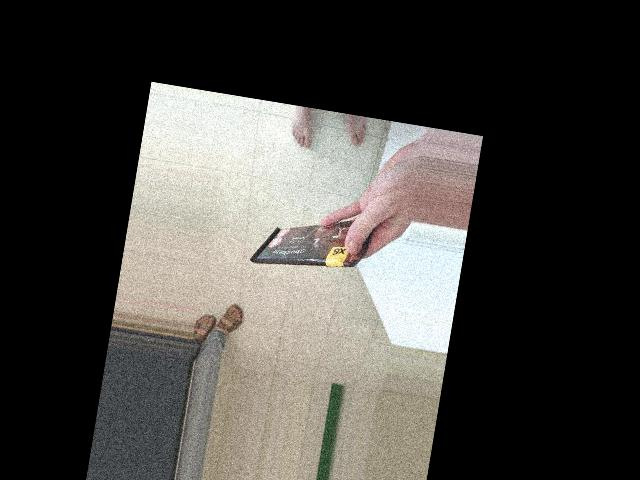chocolate: (243, 195, 384, 290)
